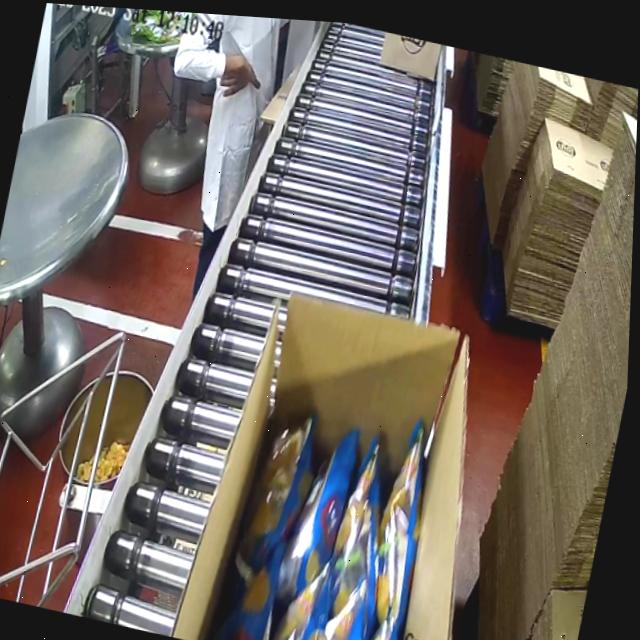PAPRIKA: (210, 374, 444, 640)
